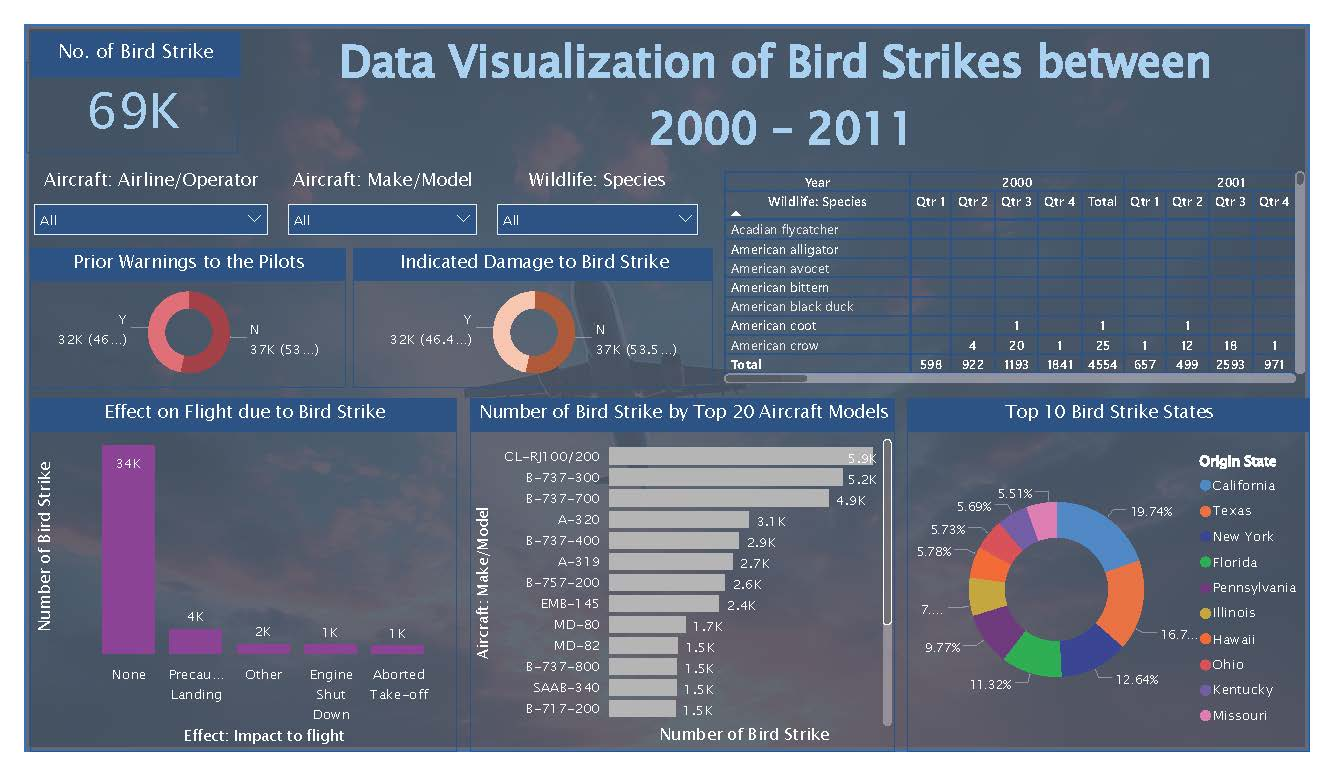

This screenshot's page, from the dashboard's own definition file:
{"tool":"powerbi","page":{"name":"Dashboard 2","canvas":[1280,720],"ordinal":1},"visuals":[{"type":"image","box":[0,0,1271.5,719.7],"z":0},{"type":"shape","box":[0,0,1271.5,719.7],"z":1000},{"type":"card","title":"No. of Bird Strike","fields":{"Values":["Sum(Bird Strikes.Wildlife: Number Struck Actual)"]},"box":[1.5,37,210.2,89.2],"z":1503,"group":"g1"},{"type":"textbox","box":[214.7,0,1056.8,148.2],"z":2000},{"type":"textbox","box":[6.4,7.6,207.1,45],"z":2003,"group":"g1"},{"type":"columnChart","title":"Effect on Flight due to Bird Strike","fields":{"Category":["Bird Strikes.Effect: Impact to flight"],"Y":["Sum(Bird Strikes.Wildlife: Number Struck Actual)"]},"box":[6,370.4,421.8,349.3],"z":3000},{"type":"slicer","title":"Aircraft: Airline/Operator","fields":{"Values":["Bird Strikes.Aircraft: Airline/Operator"]},"box":[0,140.6,251,74.1],"z":4000},{"type":"slicer","title":"Aircraft: Make/Model","fields":{"Values":["Bird Strikes.Aircraft: Make/Model"]},"box":[251,140.6,207.1,80.1],"z":5000},{"type":"donutChart","title":"Top 10 Bird Strike States","fields":{"Y":["Sum(Bird Strikes.Wildlife: Number Struck Actual)"],"Category":["Bird Strikes.Origin State"]},"box":[873.9,370.4,397.6,349.3],"z":6000},{"type":"donutChart","title":"Prior Warnings to the Pilots","fields":{"Y":["Sum(Bird Strikes.Wildlife: Number Struck Actual)"],"Category":["Bird Strikes.Pilot warned of birds or wildlife?"]},"box":[6,220.7,311.5,139.1],"z":7000},{"type":"barChart","title":"Number of Bird Strike by Top 20 Aircraft Models","fields":{"Y":["Sum(Bird Strikes.Wildlife: Number Struck Actual)"],"Category":["Bird Strikes.Aircraft: Make/Model"]},"box":[441.5,370.4,420.3,349.3],"z":8000},{"type":"group","id":"g1","title":"Group 1","box":[1.5,7.6,212.1,118.6],"z":9000},{"type":"pivotTable","fields":{"Values":["Sum(Bird Strikes.Wildlife: Number Struck Actual)"],"Columns":["Calendar.Date.Variation.Date Hierarchy.Year","Calendar.Date.Variation.Date Hierarchy.Quarter","Calendar.Date.Variation.Date Hierarchy.Month","Calendar.Date.Variation.Date Hierarchy.Day"],"Rows":["Bird Strikes.Wildlife: Species"]},"box":[687.9,140.6,583.6,219.2],"z":10000},{"type":"slicer","title":"Wildlife: Species","fields":{"Values":["Bird Strikes.Wildlife: Species"]},"box":[458.1,140.6,219.2,80.1],"z":11000},{"type":"donutChart","title":"Indicated Damage to Bird Strike","fields":{"Y":["Sum(Bird Strikes.Wildlife: Number Struck Actual)"],"Category":["Bird Strikes.Pilot warned of birds or wildlife?"]},"box":[325.1,220.7,356.8,139.1],"z":12000}]}

Visuals, with their boxes in screenshot pixels (x1, y1, x2, y2), scaled from the page's 1280x720 canvas onto the 1342x776 screenshot:
image: <region>0, 0, 1333, 775</region>
shape: <region>0, 0, 1333, 775</region>
"No. of Bird Strike" card: <region>2, 40, 222, 136</region>
textbox: <region>225, 0, 1333, 160</region>
textbox: <region>7, 8, 224, 57</region>
"Effect on Flight due to Bird Strike" columnChart: <region>6, 399, 449, 775</region>
"Aircraft: Airline/Operator" slicer: <region>0, 152, 263, 231</region>
"Aircraft: Make/Model" slicer: <region>263, 152, 480, 238</region>
"Top 10 Bird Strike States" donutChart: <region>916, 399, 1333, 775</region>
"Prior Warnings to the Pilots" donutChart: <region>6, 238, 333, 388</region>
"Number of Bird Strike by Top 20 Aircraft Models" barChart: <region>463, 399, 904, 775</region>
"Group 1" group: <region>2, 8, 224, 136</region>
pivotTable - Sum(Bird Strikes.Wildlife: Number Struck Actual) x Calendar.Date.Variation.Date Hierarchy.Year: <region>721, 152, 1333, 388</region>
"Wildlife: Species" slicer: <region>480, 152, 710, 238</region>
"Indicated Damage to Bird Strike" donutChart: <region>341, 238, 715, 388</region>
